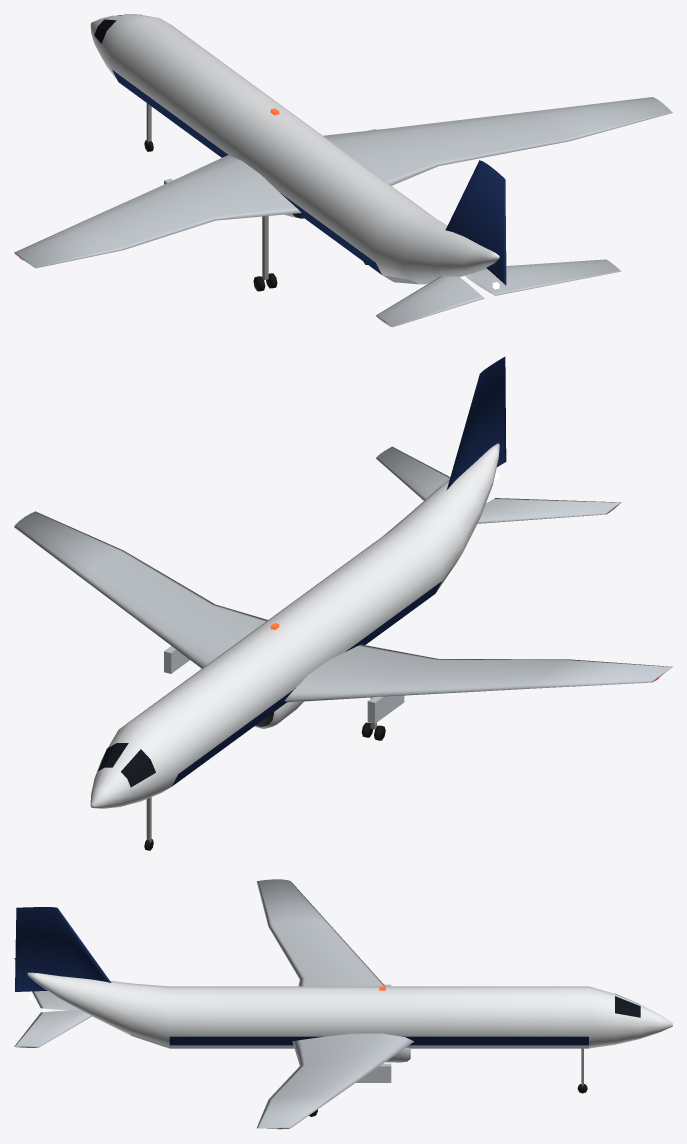
File: fleet_narrow_lod1.glb
3 views of the same model, one above another, from view 1: azimuth 30°, elevation 25°; view 2: azimuth 150°, elevation 25°; view 3: azimuth 270°, elevation 25° (orthographic). The views are drawn at different scales.
Parts seen in each view (by area): view 1: fleet_narrow_lod1_white, fleet_narrow_lod1_wing, fleet_narrow_lod1_blue, fleet_narrow_lod1_metal; view 2: fleet_narrow_lod1_white, fleet_narrow_lod1_wing, fleet_narrow_lod1_blue, fleet_narrow_lod1_glass; view 3: fleet_narrow_lod1_white, fleet_narrow_lod1_wing, fleet_narrow_lod1_blue, fleet_narrow_lod1_belly, fleet_narrow_lod1_glass.
Part boxes in pixels (x1,y1,x2,y2): fleet_narrow_lod1_white: (90,14,499,284); fleet_narrow_lod1_wing: (14,97,672,327); fleet_narrow_lod1_blue: (112,70,506,285); fleet_narrow_lod1_metal: (146,103,268,279); fleet_narrow_lod1_white: (90,443,499,808); fleet_narrow_lod1_wing: (14,446,672,723); fleet_narrow_lod1_blue: (172,356,506,786); fleet_narrow_lod1_glass: (98,743,155,787); fleet_narrow_lod1_white: (27,972,672,1048); fleet_narrow_lod1_wing: (14,879,414,1128); fleet_narrow_lod1_blue: (15,907,588,1045); fleet_narrow_lod1_belly: (131,1034,588,1048); fleet_narrow_lod1_glass: (615,993,640,1017).
Bounding box in the file's own units: 35.8 × 12.51 × 40.35.
